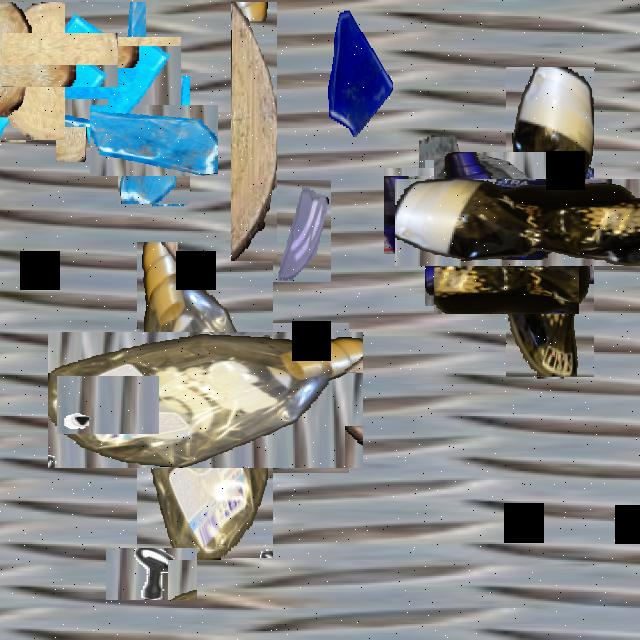glass: (38, 19, 164, 144), (400, 152, 520, 271), (265, 323, 349, 473), (319, 2, 395, 137), (104, 90, 204, 190), (273, 180, 331, 282)
metal: (68, 365, 148, 446), (115, 538, 187, 610)
plastic: (92, 287, 318, 513), (450, 122, 640, 321), (429, 156, 583, 310)
wood: (231, 2, 277, 261), (0, 2, 65, 140), (17, 18, 103, 103)
